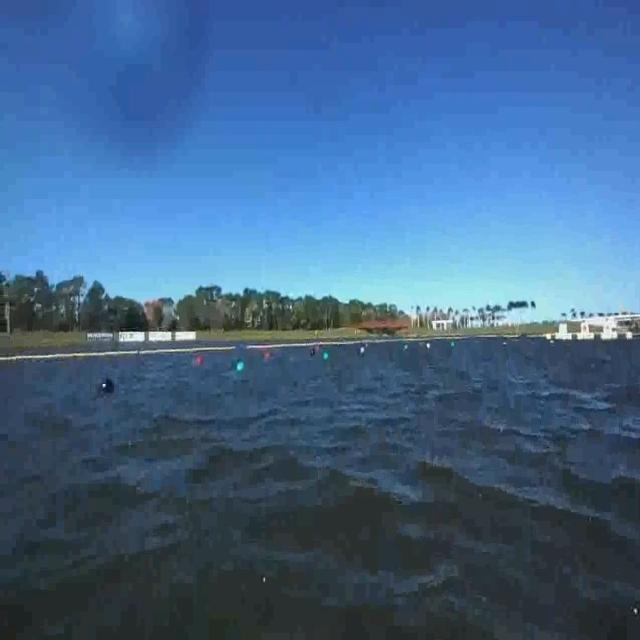black-buoy: (99, 378, 116, 395)
green-buoy: (238, 360, 246, 372)
red-buoy: (190, 352, 208, 366)
